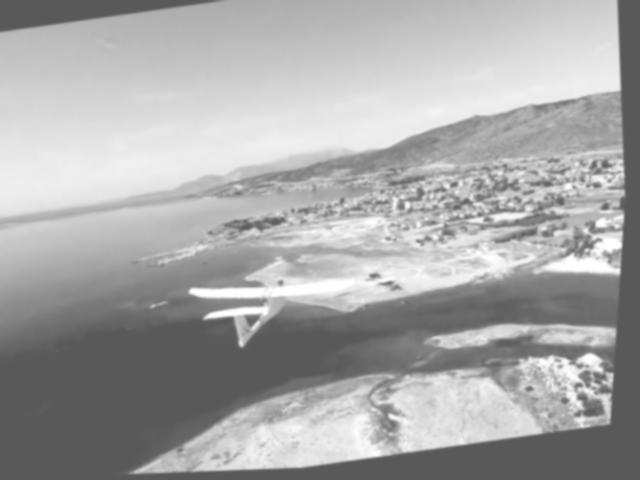hedef: (171, 269, 373, 356)
